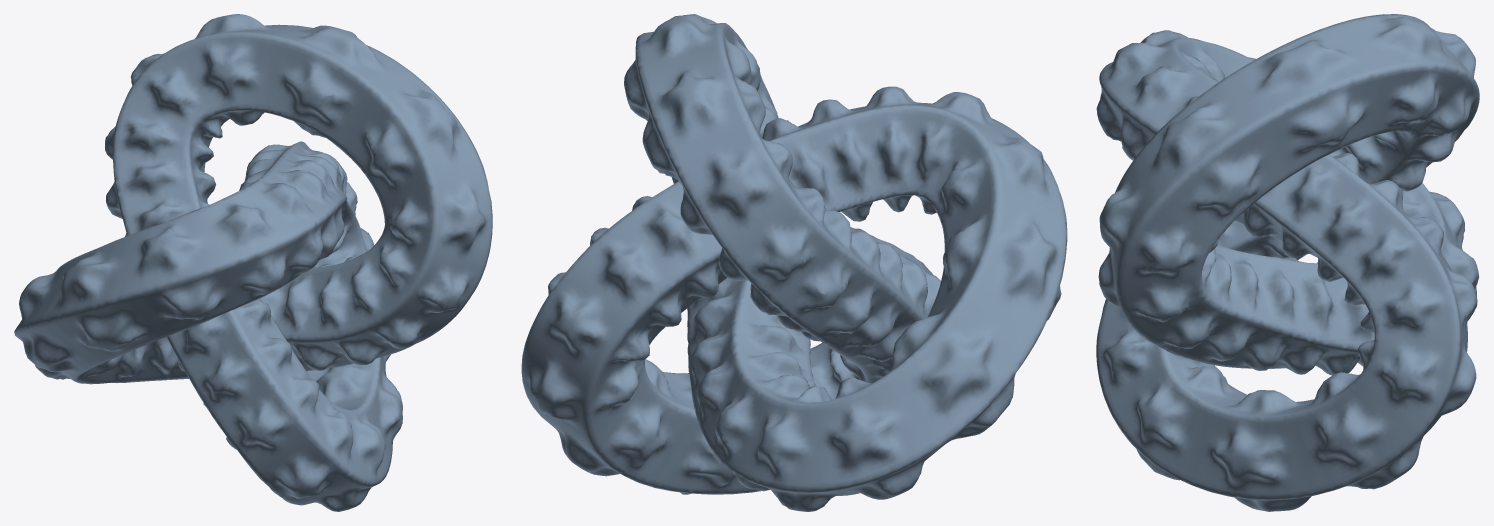
Rendered from knot100K_quads.glb.
The picture shows the model from 3 angles, left to right: view 1: azimuth 30°, elevation 25°; view 2: azimuth 150°, elevation 25°; view 3: azimuth 270°, elevation 25°; orthographic projection. The views are drawn at different scales.
Size of the model in its own units: 94.68 by 99.64 by 74.46.
